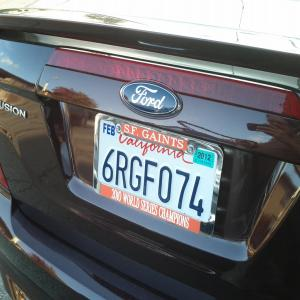Vehicle-registration-plate: (92, 116, 226, 237)
